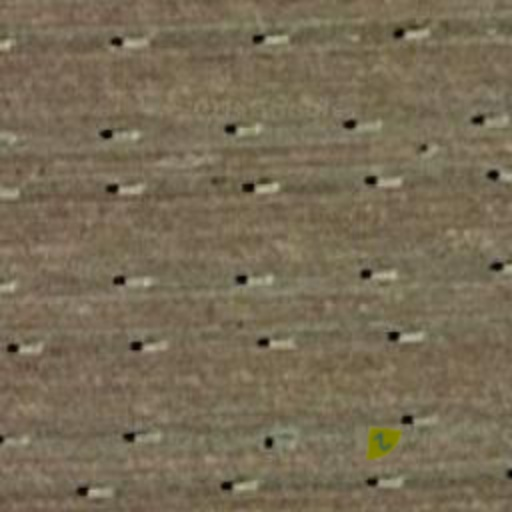quarter_circle: (350, 410, 414, 474)
